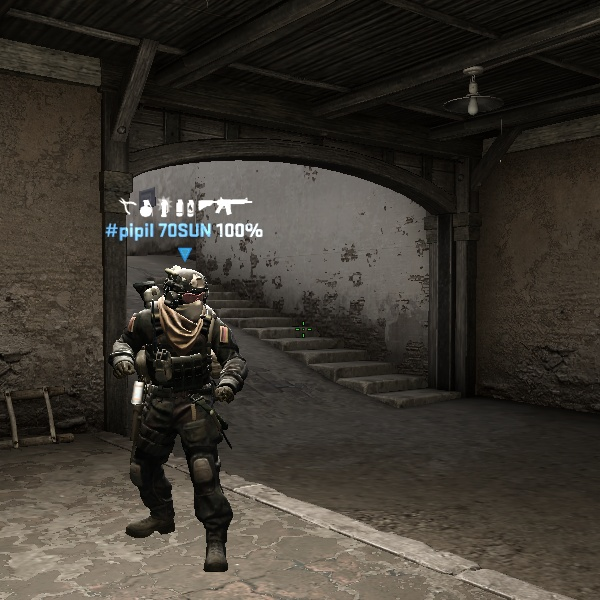ct_body: (105, 260, 262, 568)
ct_head: (151, 263, 220, 328)
